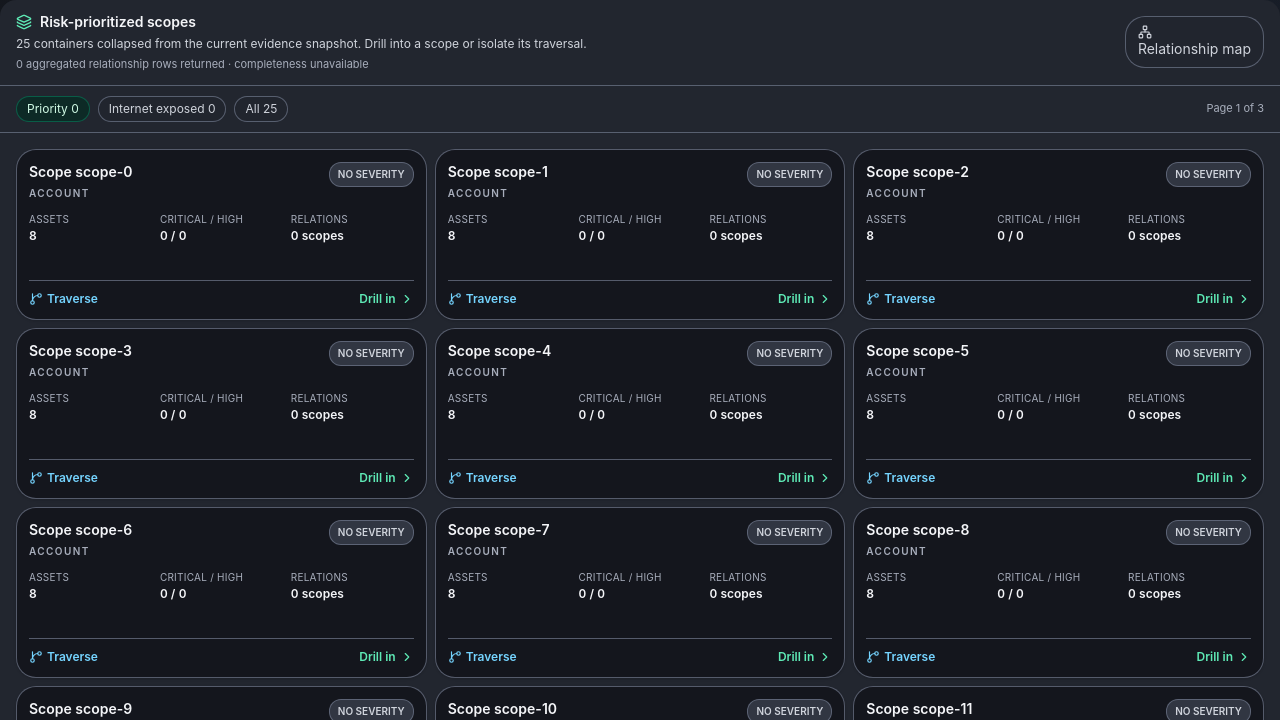
Scenario: GraphRollupDecisionSurface › paginates the all-scopes view without growing a long vertical page
Click the button "All 25" at (261, 108), box top-left (234, 96), bottom-right (288, 122)
(page scrolled)
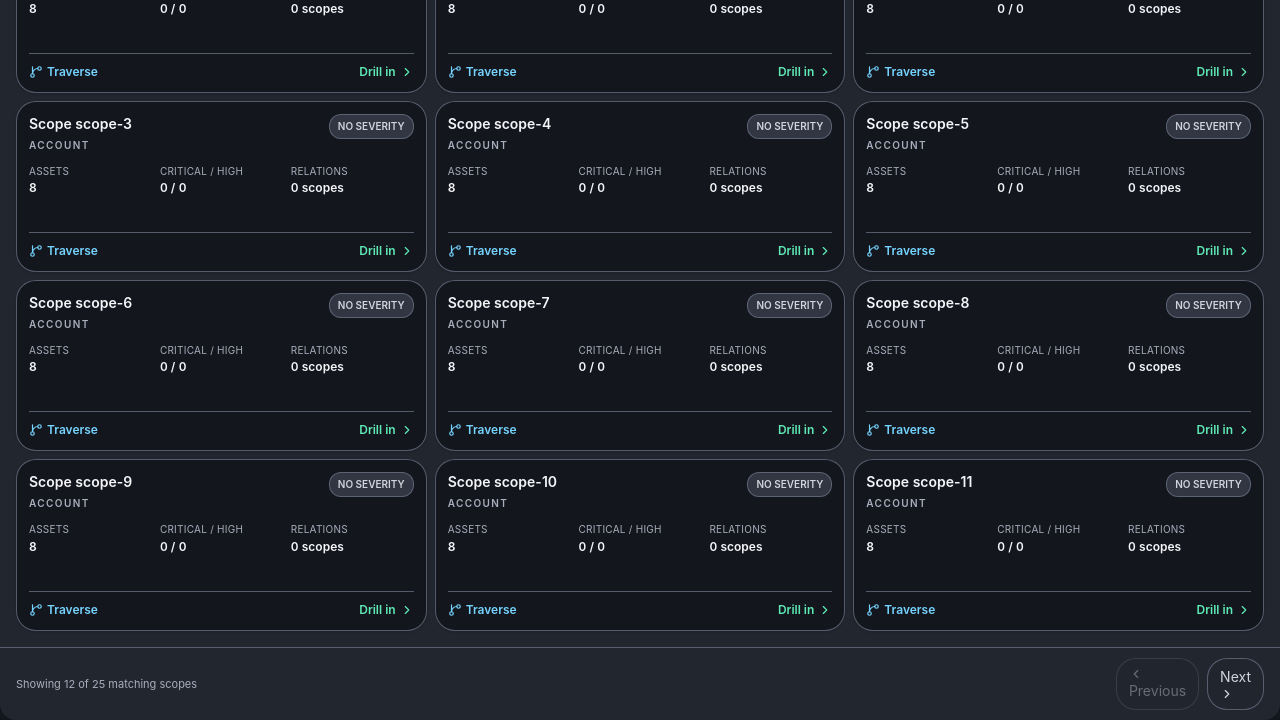
Expected: the text "Showing 12 of 25 matching scopes" is shown, top-left (16, 676), bottom-right (197, 692)
Click the button with aria-label "Next scope page" at (1236, 684), box top-left (1207, 658), bottom-right (1264, 710)
(page scrolled)
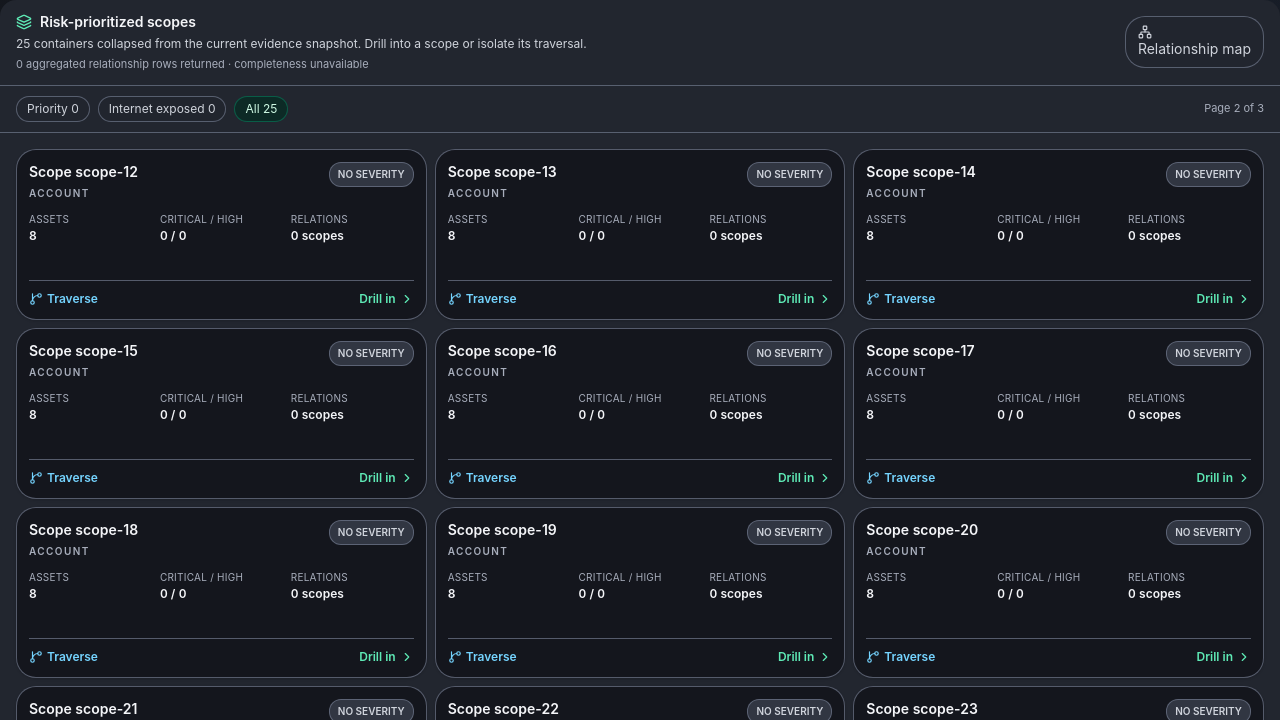
Result: the text "Page 2 of 3" is shown at top-left (1204, 101), bottom-right (1264, 116)
